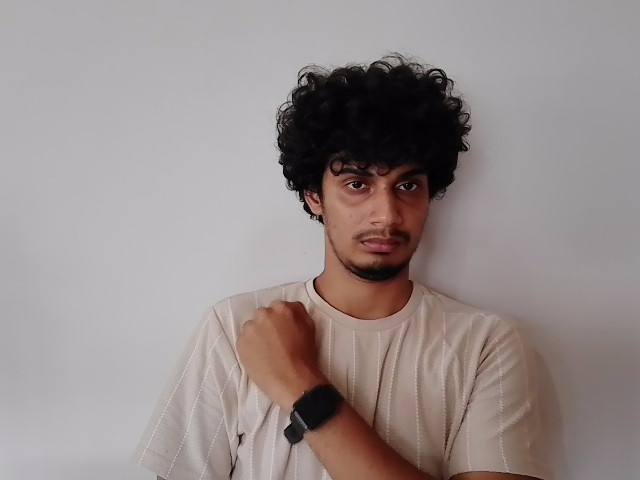sorry: (165, 285, 365, 468)
